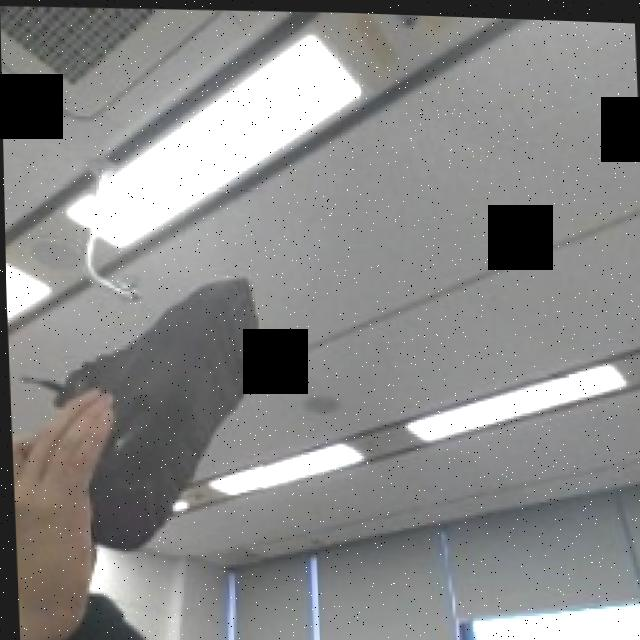shoe: (60, 271, 265, 553)
